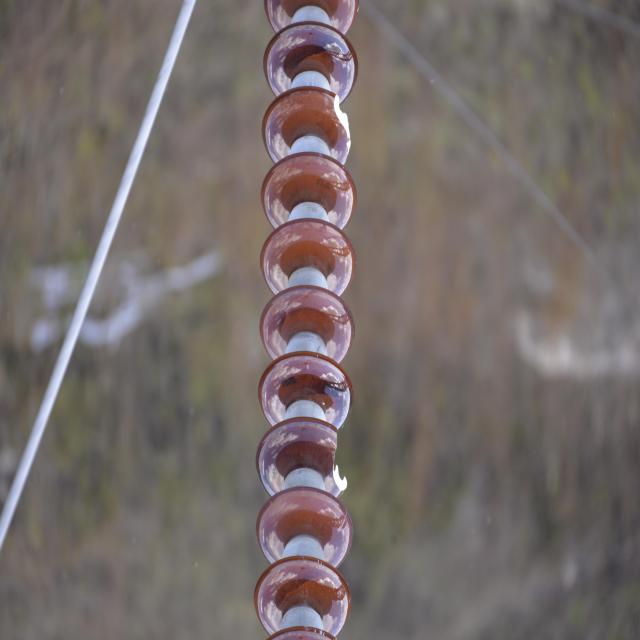broken: (327, 422, 349, 496), (331, 83, 352, 159)
insulator: (254, 2, 362, 640)
